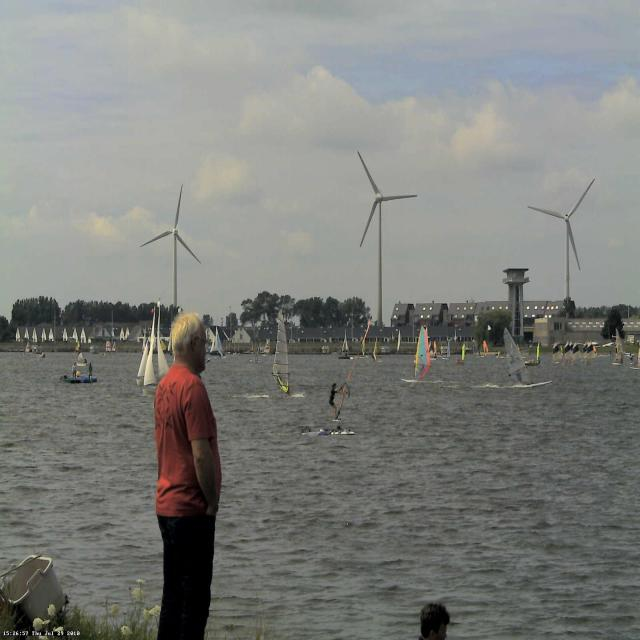other: (142, 363, 243, 534)
